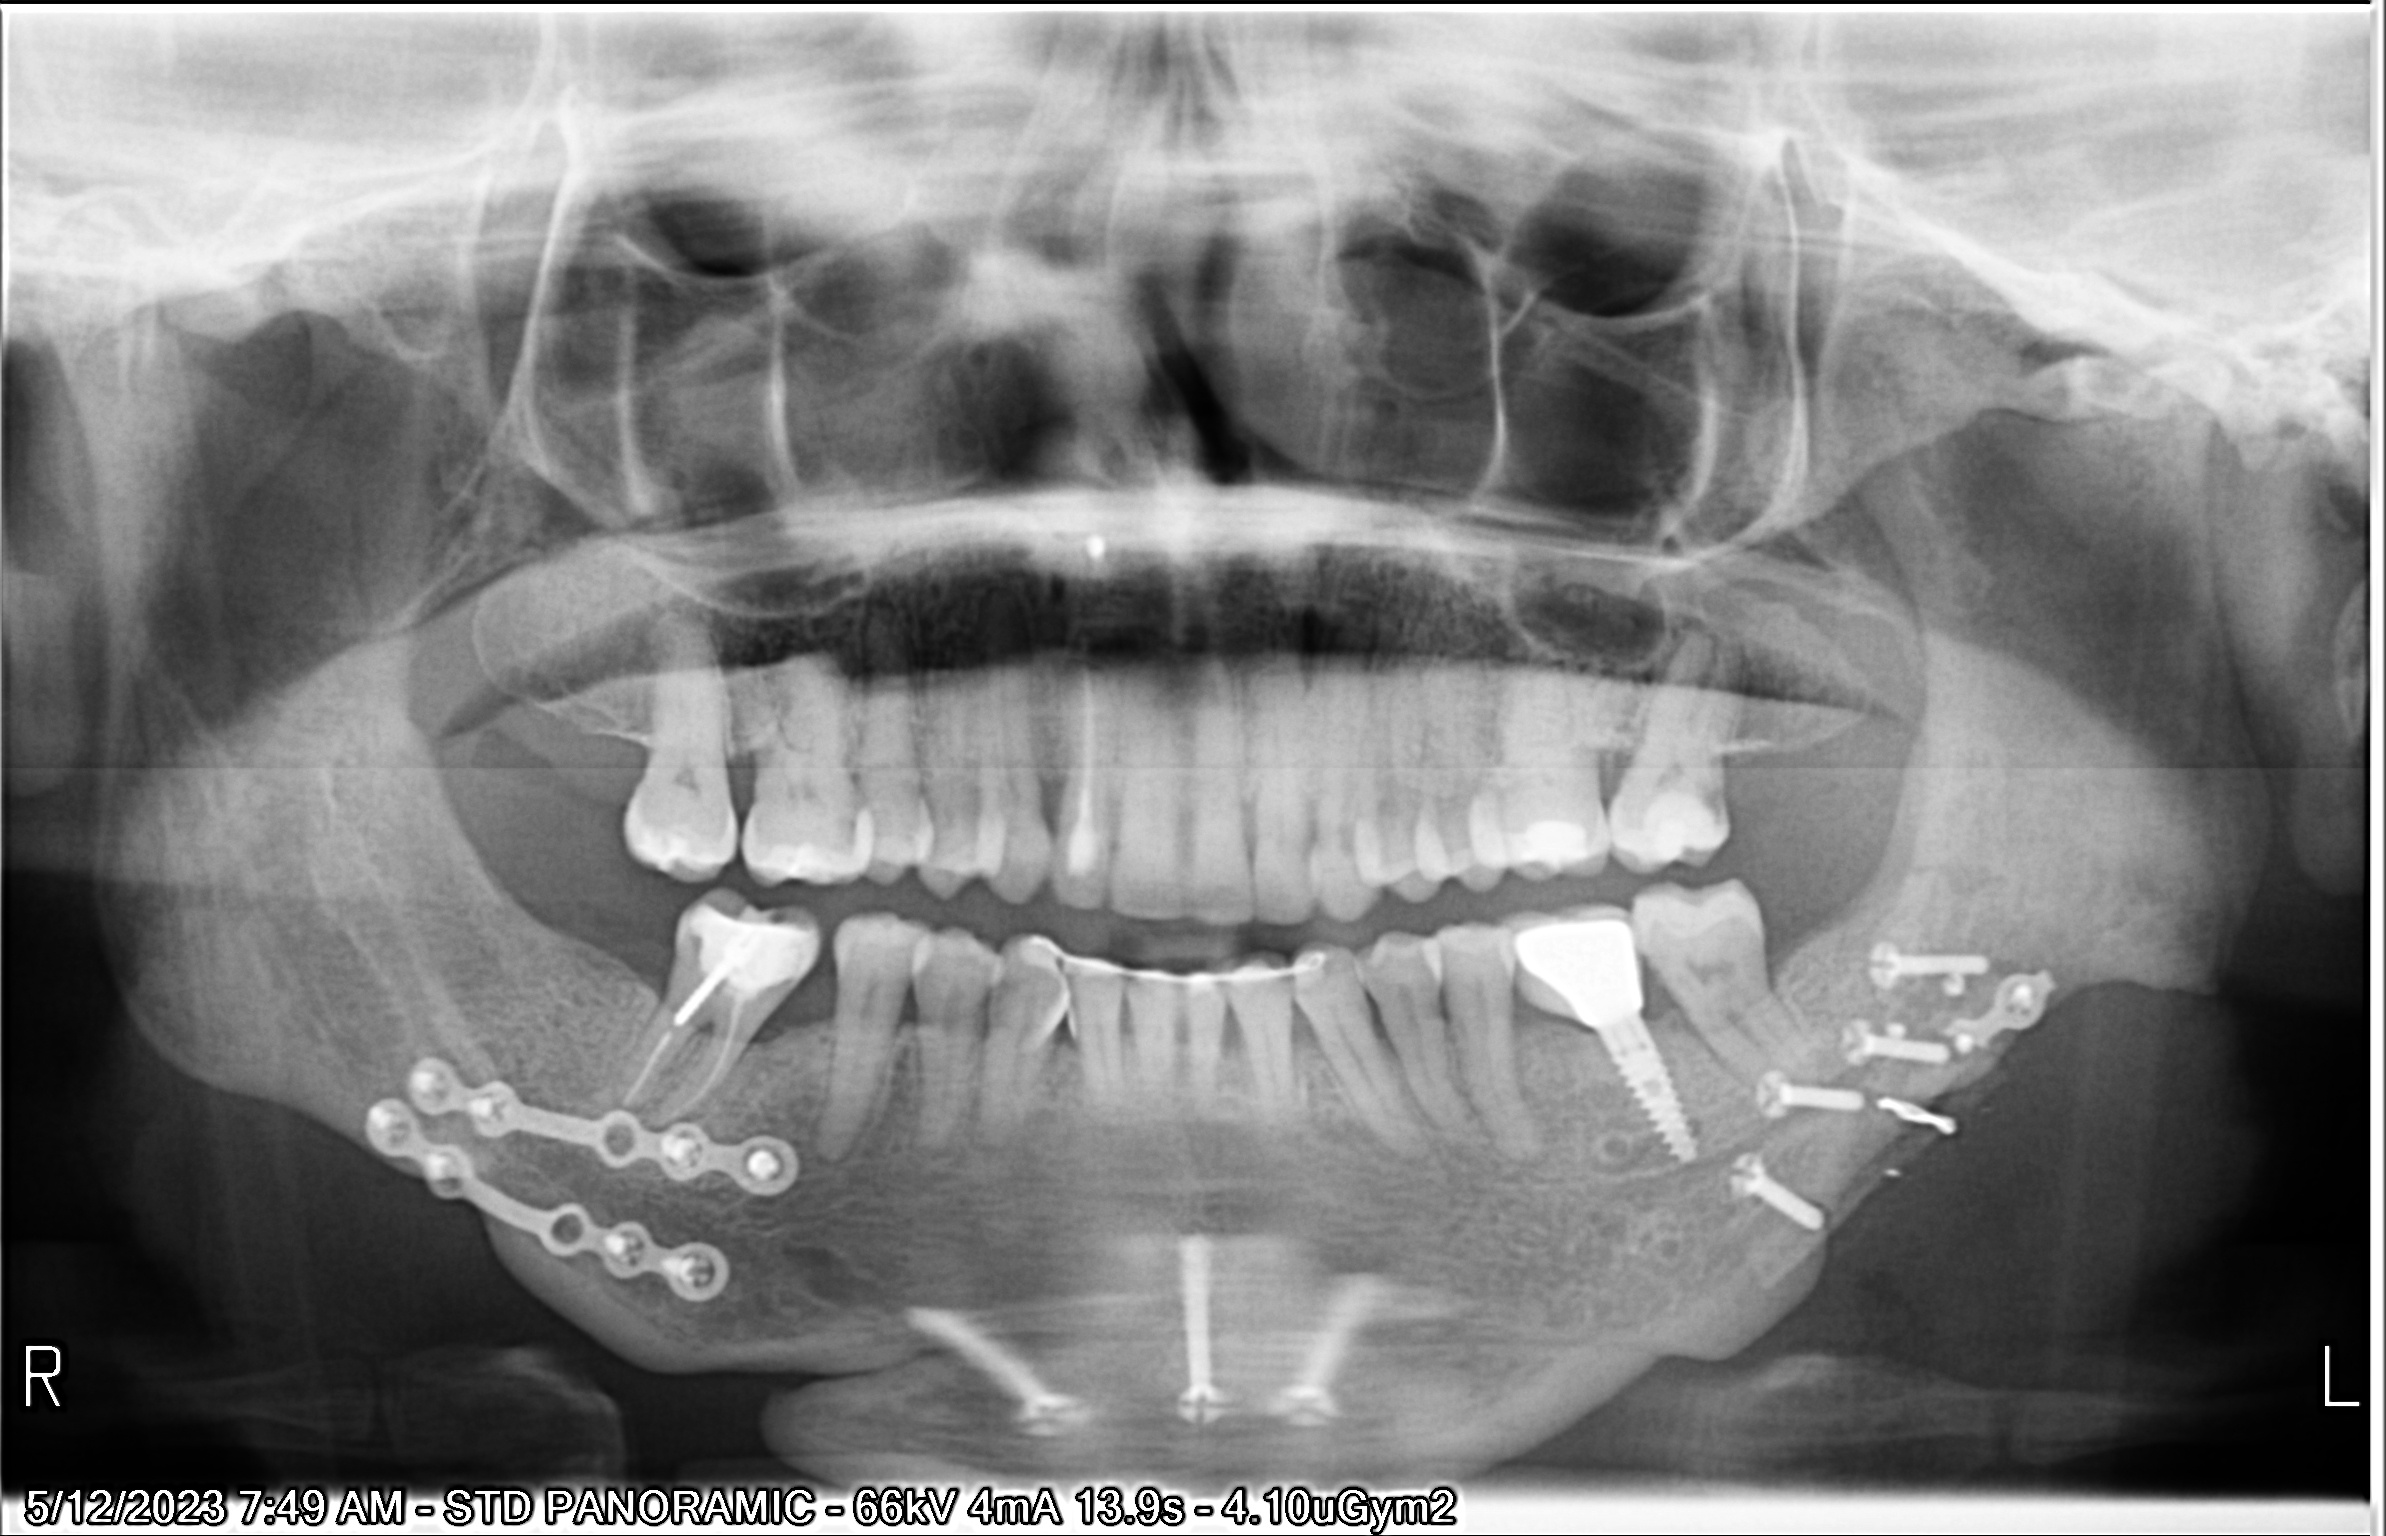BON: (1369, 993, 1396, 1056), (727, 751, 753, 805), (1598, 746, 1624, 800), (1287, 1009, 1320, 1051), (1049, 1012, 1073, 1056), (1242, 804, 1259, 863), (1223, 1005, 1245, 1051), (1301, 795, 1316, 852), (1110, 1004, 1134, 1040), (1043, 779, 1057, 838), (983, 985, 995, 1042), (1435, 992, 1450, 1032), (1177, 1007, 1191, 1047), (1181, 798, 1188, 863)
CAR: (1692, 771, 1725, 828), (666, 819, 701, 845)
END: (668, 1005, 774, 1115), (640, 974, 699, 1129), (1063, 677, 1099, 861)
IMP: (1609, 1037, 1701, 1193)
OBT: (678, 903, 802, 990), (1619, 800, 1696, 866), (1489, 812, 1574, 872)
ORD: (1023, 932, 1336, 1012)
PRR: (1499, 906, 1645, 1023)
SRD: (1713, 948, 2049, 1259), (365, 1099, 756, 1352), (393, 1032, 817, 1214), (899, 1299, 1108, 1458), (1158, 1230, 1257, 1440), (1278, 1256, 1388, 1430)
